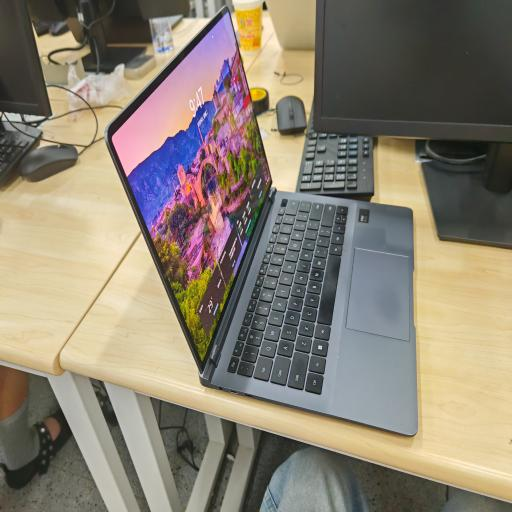laptop: (104, 4, 418, 438)
mouse: (18, 144, 78, 182), (276, 96, 307, 134)
